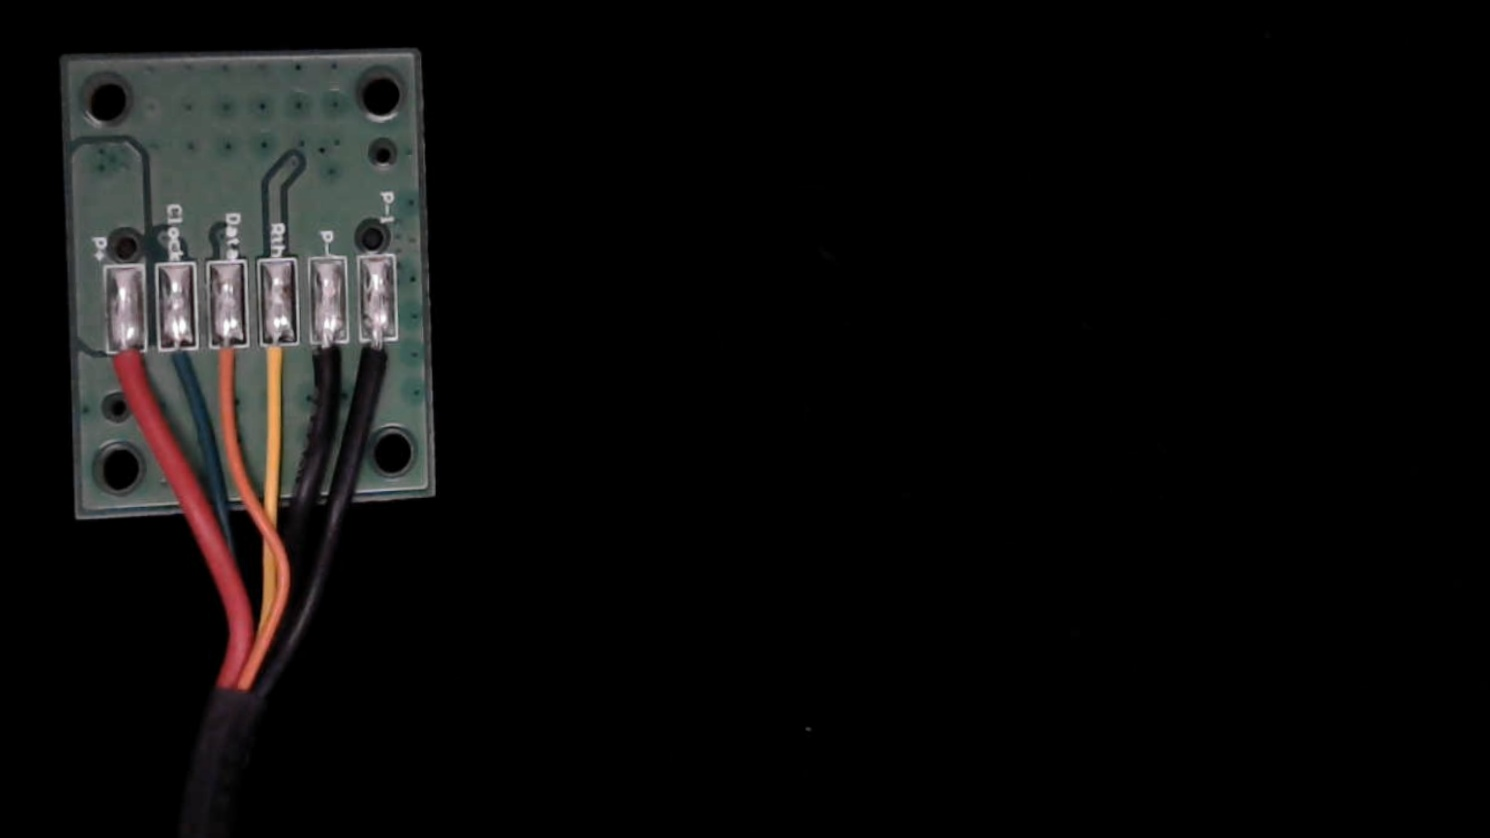Black: (306, 318, 349, 417)
Black1: (360, 315, 401, 406)
Green: (155, 322, 199, 417)
Orange: (209, 322, 251, 421)
Red: (104, 334, 148, 429)
Yellow: (257, 317, 301, 417)
